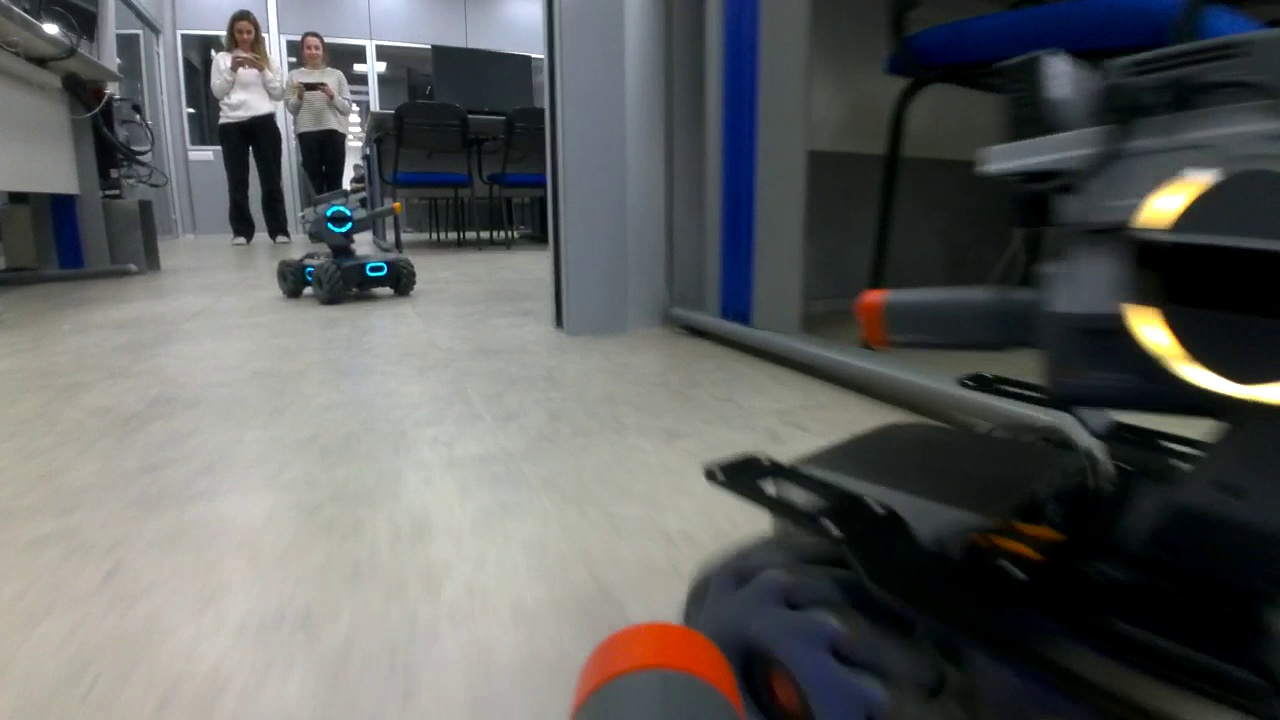robot: (693, 61, 1267, 720), (274, 188, 421, 309)
